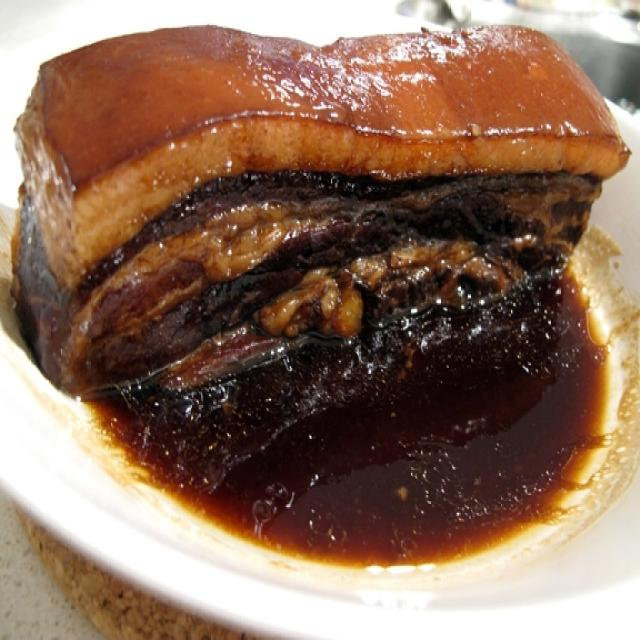牛肉菜式: (4, 8, 634, 598)
